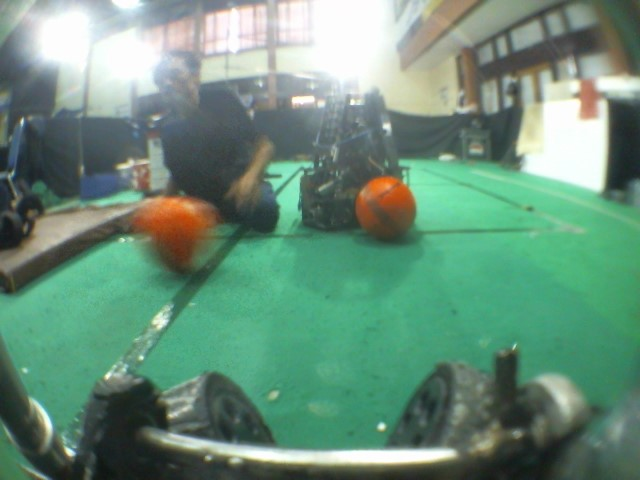ball: (127, 191, 223, 281), (349, 173, 422, 247)
